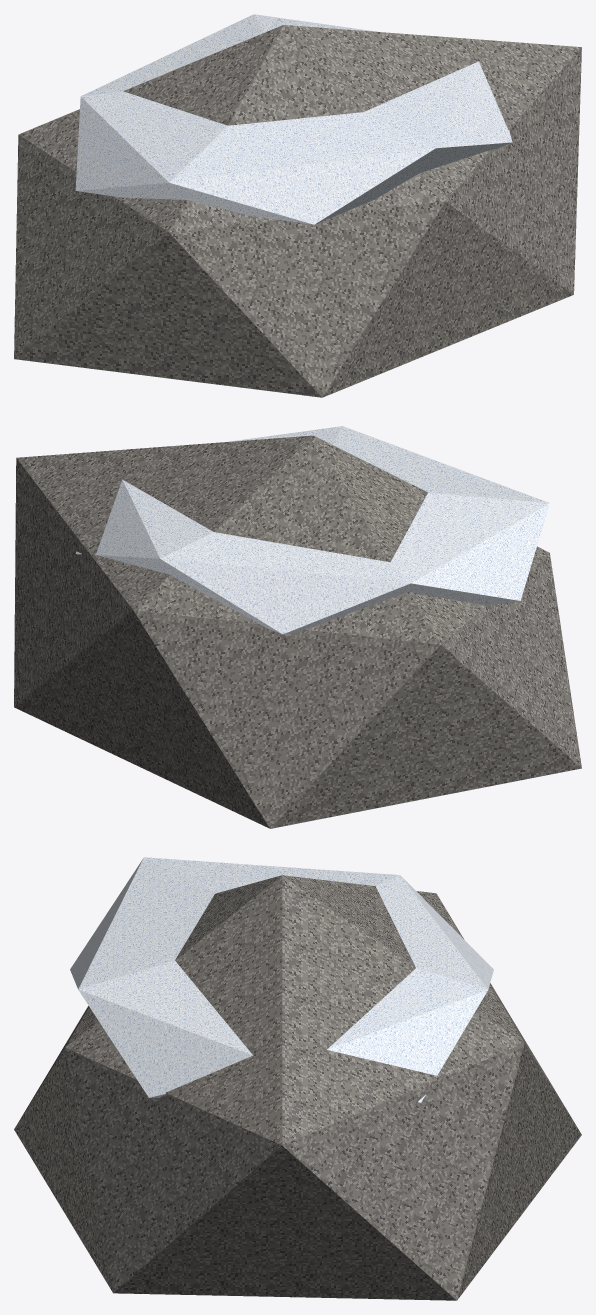
Rendered from rock_snow.glb.
The picture shows the model from 3 angles, top to bottom: view 1: azimuth 30°, elevation 25°; view 2: azimuth 150°, elevation 25°; view 3: azimuth 270°, elevation 25°; orthographic projection. The views are drawn at different scales.
Visible parts, largest first — view 1: Body.019; view 2: Body.019; view 3: Body.019.
Part boxes in pixels (x1,y1,x2,y2): Body.019: (14, 14, 581, 397); Body.019: (14, 426, 581, 828); Body.019: (14, 857, 581, 1300).
Size of the model in its own units: 2.46 by 1.46 by 1.9.
2 materials, 2 textured.
